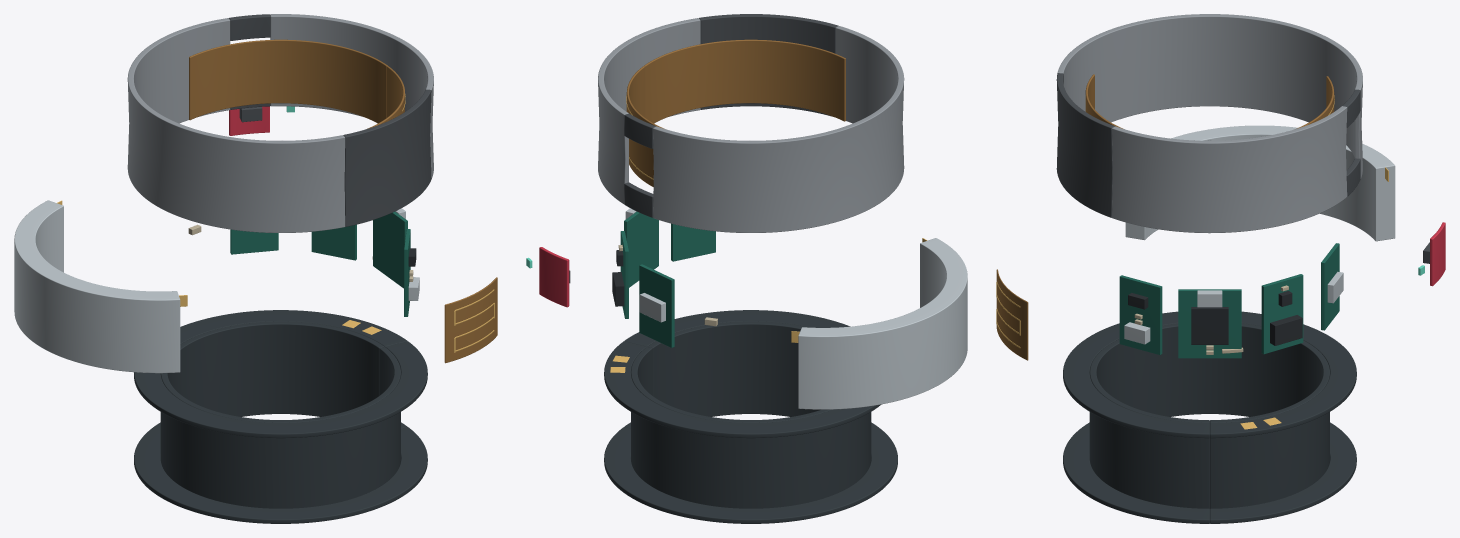
The model's file is s4h-ring-exploded.glb.
3 renders of one model, left to right at view 1: azimuth 30°, elevation 25°; view 2: azimuth 150°, elevation 25°; view 3: azimuth 270°, elevation 25°, orthographic.
Parts seen in each view (by area): view 1: 04 / finger liner, 01 / titanium shell A, 06 / GRP170726 battery ENVELOPE 18.5mAh, 07 / flex interconnect B, 05 / upper insulating closure, 02 / polymer antenna window, 05 / lower insulating closure, 01 / titanium shell B, 08 / antenna flex zone - no ground beneath, Rigid island 0, Rigid island 35, Rigid island 72 (+3 smaller); view 2: 04 / finger liner, 01 / titanium shell A, 06 / GRP170726 battery ENVELOPE 18.5mAh, 07 / flex interconnect A, 05 / upper insulating closure, 05 / lower insulating closure, 01 / titanium shell B, 02 / polymer antenna window, Rigid island 72, Rigid island 0, 07 / flex interconnect B, 03 / recessed trigger membrane (+5 smaller); view 3: 04 / finger liner, 01 / titanium shell A, 01 / titanium shell B, 05 / upper insulating closure, 05 / lower insulating closure, 06 / GRP170726 battery ENVELOPE 18.5mAh, 02 / polymer antenna window, Rigid island 0, Rigid island -33, Rigid island 35, 08 / antenna flex zone - no ground beneath, U1 / nRF52832-CIAA-G / 3.0 x 3.2 mm (+3 smaller).
Part boxes in pixels (x1,y1,x2,y2): 04 / finger liner: (160, 321, 400, 508); 01 / titanium shell A: (127, 18, 345, 232); 06 / GRP170726 battery ENVELOPE 18.5mAh: (14, 200, 180, 373); 07 / flex interconnect B: (189, 39, 387, 123); 05 / upper insulating closure: (134, 310, 427, 438); 02 / polymer antenna window: (343, 89, 431, 226); 05 / lower insulating closure: (134, 422, 427, 523); 01 / titanium shell B: (270, 14, 433, 178); 08 / antenna flex zone - no ground beneath: (444, 277, 497, 363); Rigid island 0: (373, 211, 407, 288); Rigid island 35: (311, 224, 356, 260); Rigid island 72: (230, 229, 278, 254); 04 / finger liner: (631, 321, 871, 508); 01 / titanium shell A: (653, 26, 904, 232); 06 / GRP170726 battery ENVELOPE 18.5mAh: (798, 238, 967, 409); 07 / flex interconnect A: (644, 39, 845, 123); 05 / upper insulating closure: (604, 310, 881, 438); 05 / lower insulating closure: (604, 422, 897, 523); 01 / titanium shell B: (598, 18, 700, 203); 02 / polymer antenna window: (699, 14, 838, 116); Rigid island 72: (639, 264, 674, 347); Rigid island 0: (624, 211, 658, 287); 07 / flex interconnect B: (626, 66, 664, 186); 03 / recessed trigger membrane: (539, 247, 569, 307); 04 / finger liner: (1089, 323, 1329, 508); 01 / titanium shell A: (1057, 14, 1362, 178); 01 / titanium shell B: (1111, 106, 1347, 233); 05 / upper insulating closure: (1063, 311, 1356, 438); 05 / lower insulating closure: (1063, 422, 1356, 523); 06 / GRP170726 battery ENVELOPE 18.5mAh: (1125, 125, 1395, 241); 02 / polymer antenna window: (1056, 73, 1114, 217); Rigid island 0: (1178, 289, 1241, 358); Rigid island -33: (1119, 275, 1162, 354); Rigid island 35: (1261, 274, 1303, 354); 08 / antenna flex zone - no ground beneath: (996, 269, 1028, 360); U1 / nRF52832-CIAA-G / 3.0 x 3.2 mm: (1191, 307, 1228, 344).
Size of the model in its own units: 0.0329 by 0.034 by 0.0361.
